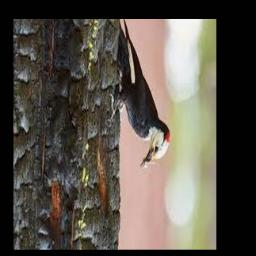Woodpecker: (108, 19, 169, 171)
